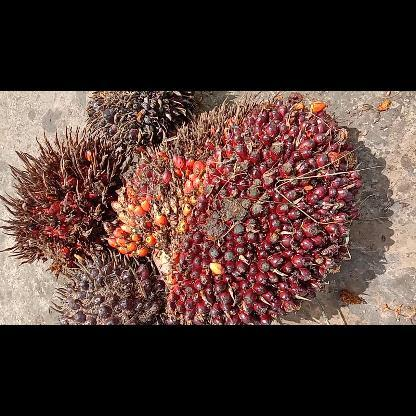Kurang masak: (54, 254, 166, 324)
TBS abnormal: (86, 90, 196, 156)
TBS masak: (102, 90, 364, 324)
Terlalu masak: (1, 128, 125, 270)
